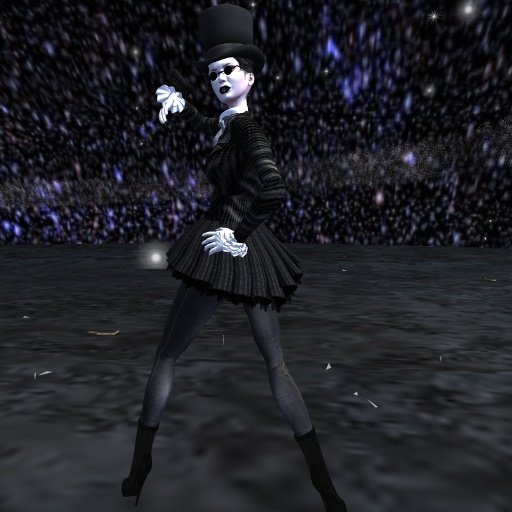hand: (201, 224, 232, 254), (158, 93, 180, 125)
